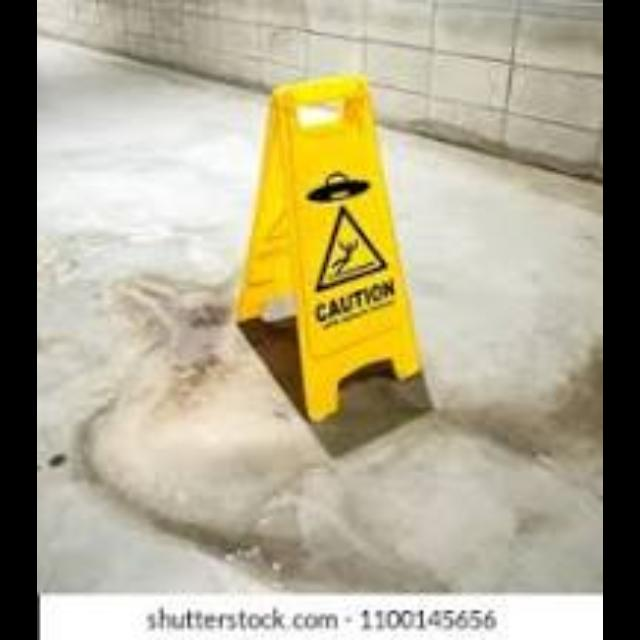slippery_floor: (235, 77, 420, 419)
